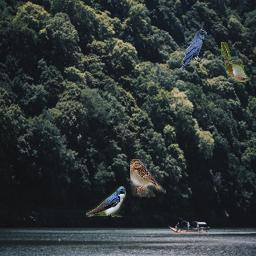Crow: (180, 29, 207, 69)
Cuckoo: (221, 42, 252, 82)
Sparrow: (130, 159, 170, 197)
Swallow: (86, 186, 126, 217)
